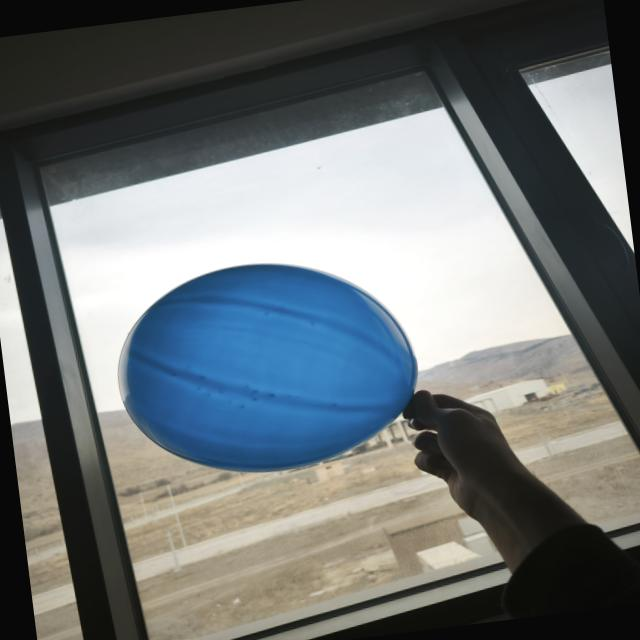balloon: (118, 264, 417, 471)
